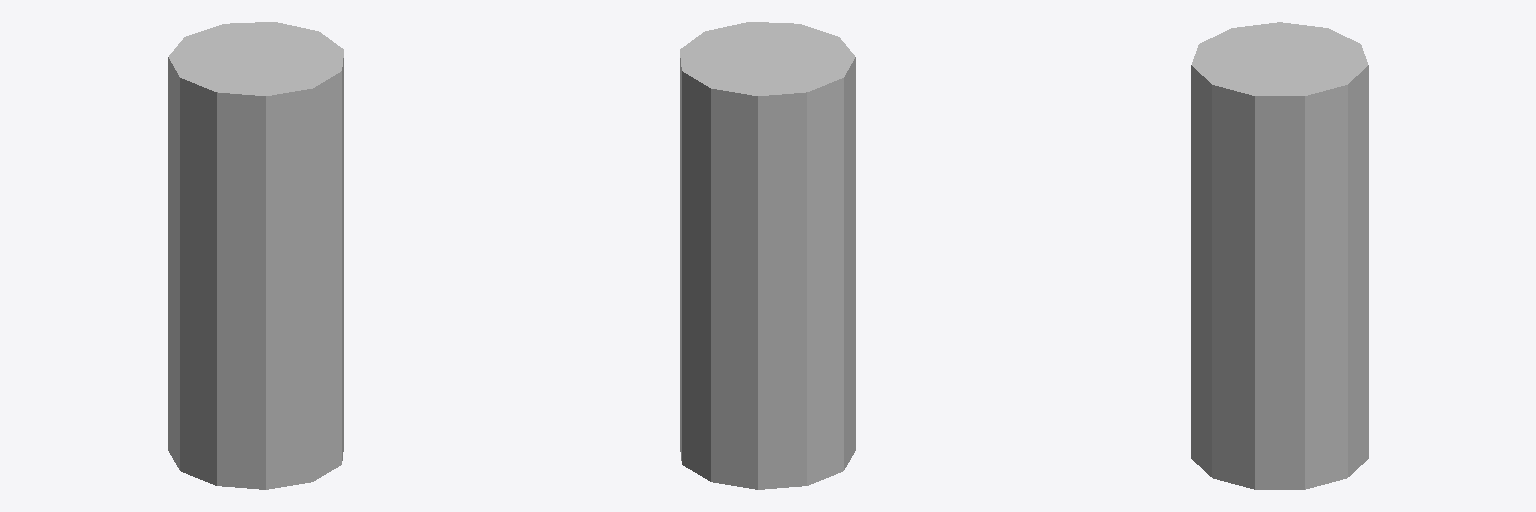
Rendered from 74. Ролик вала.obj.
The picture shows the model from 3 angles: view 1: azimuth 30°, elevation 25°; view 2: azimuth 150°, elevation 25°; view 3: azimuth 270°, elevation 25°; orthographic projection.
Visible parts, largest first — view 1: Твердое тело1; view 2: Твердое тело1; view 3: Твердое тело1.
Part boxes in pixels (x1,y1,x2,y2): Твердое тело1: (168,22,343,489); Твердое тело1: (680,22,855,489); Твердое тело1: (1191,22,1368,489).
Bounding box in the file's own units: 6.86 × 17 × 6.93.